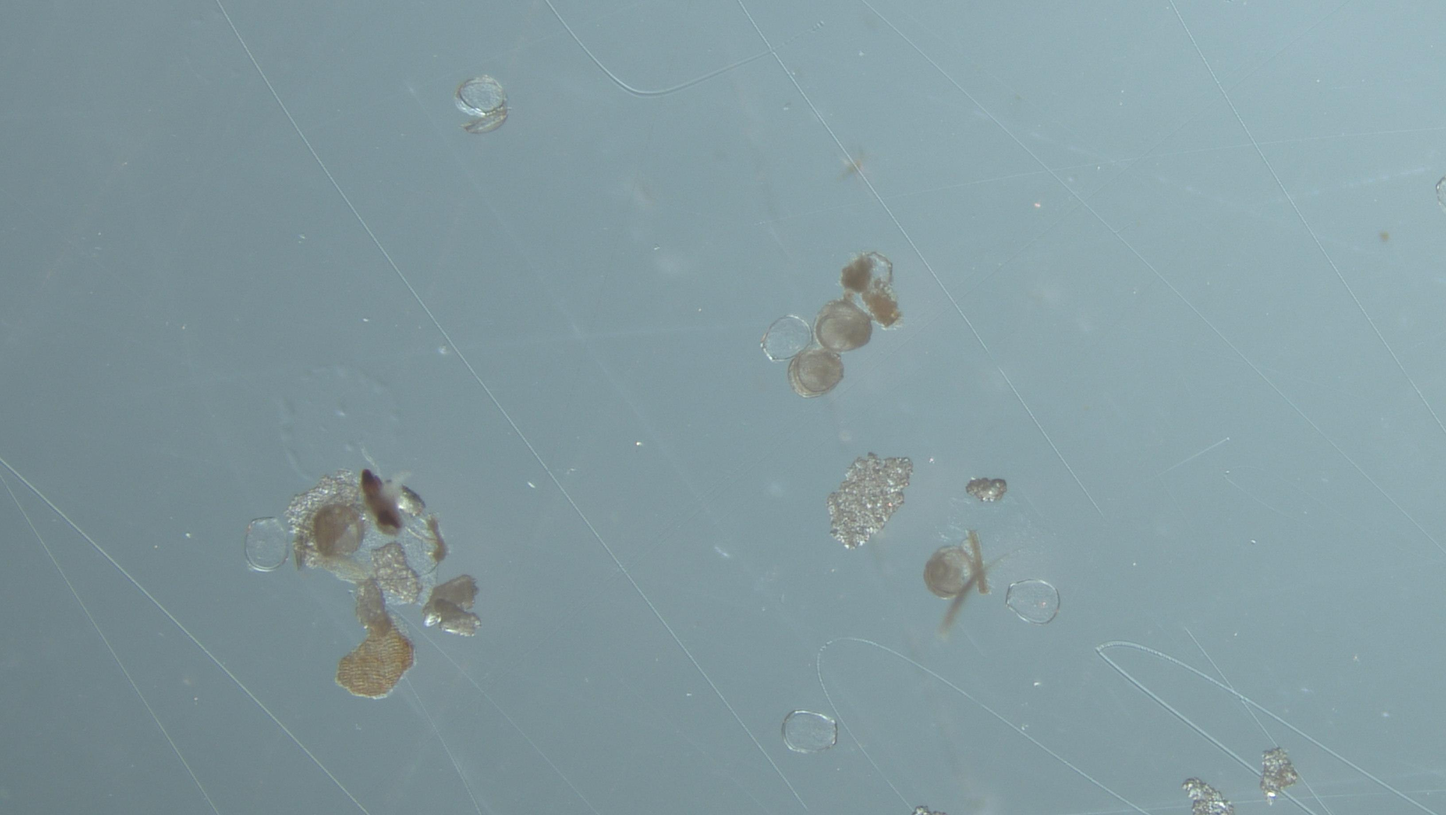dead: (760, 315, 815, 362), (245, 517, 292, 572), (781, 710, 839, 754), (1006, 580, 1061, 625), (457, 76, 507, 116)
live: (814, 297, 873, 353), (788, 346, 844, 398), (313, 505, 365, 556), (924, 546, 974, 599)
